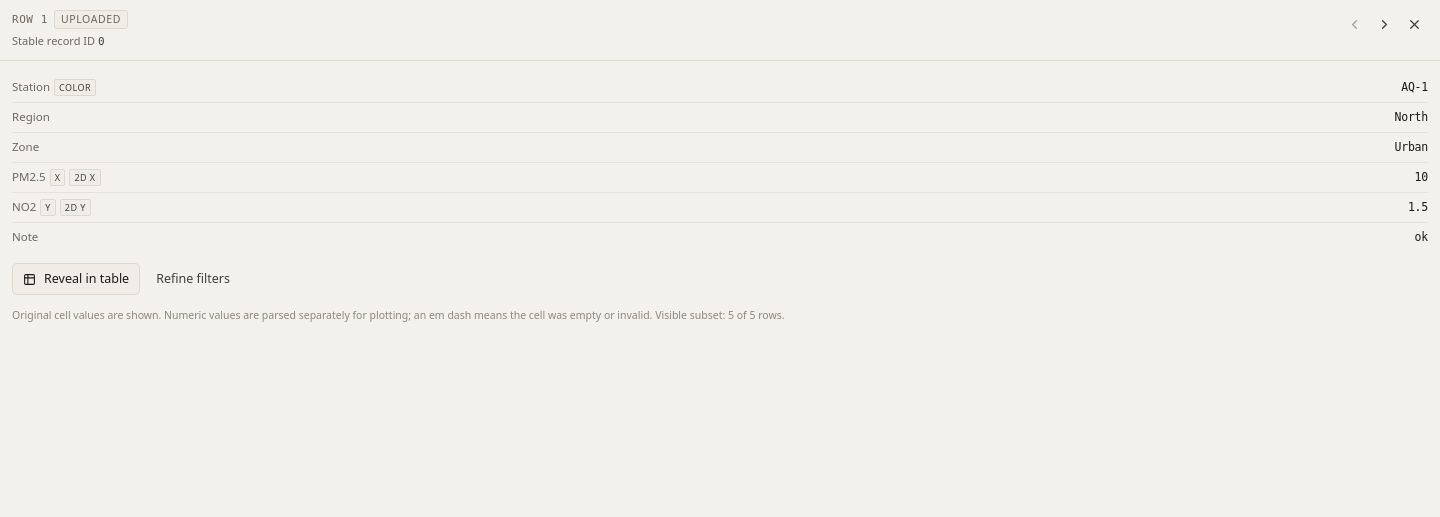
Test case: RecordPanel › clears the selection
Click the button named "Clear selection".
click(1414, 24)  # box left=1400, top=10, right=1428, bottom=38
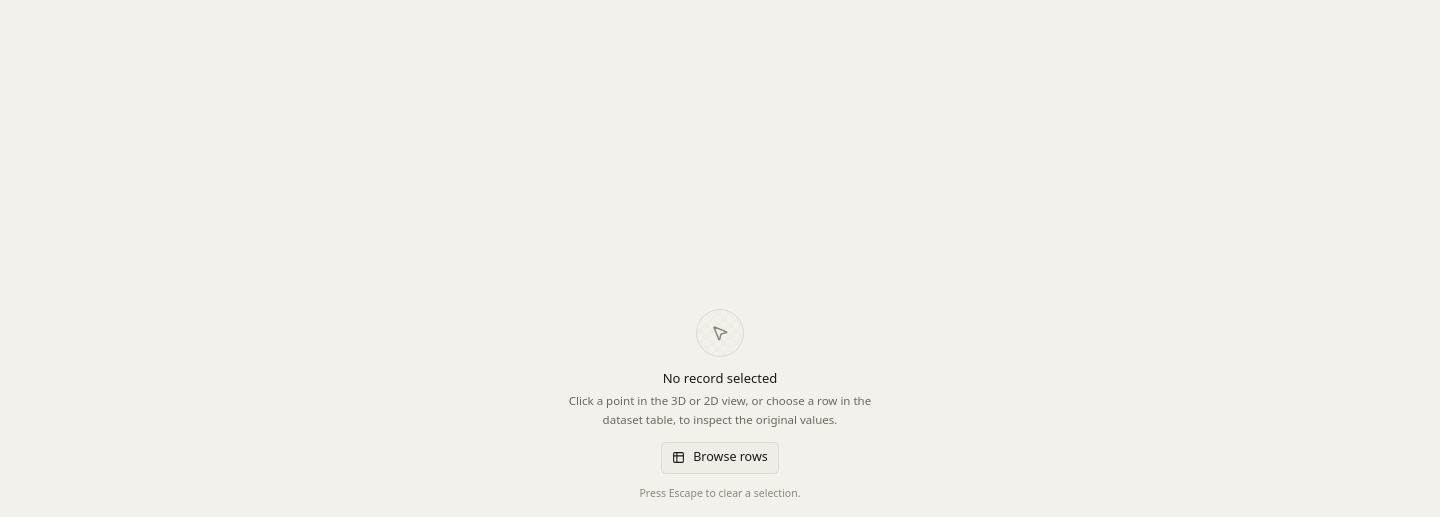
Result: the text "No record selected" is shown at left=663, top=369, right=777, bottom=387
